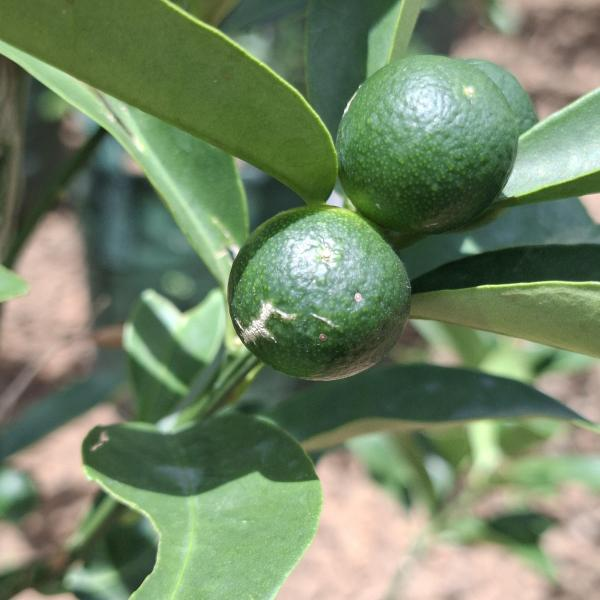Scab: (217, 200, 420, 381), (334, 55, 527, 240)
